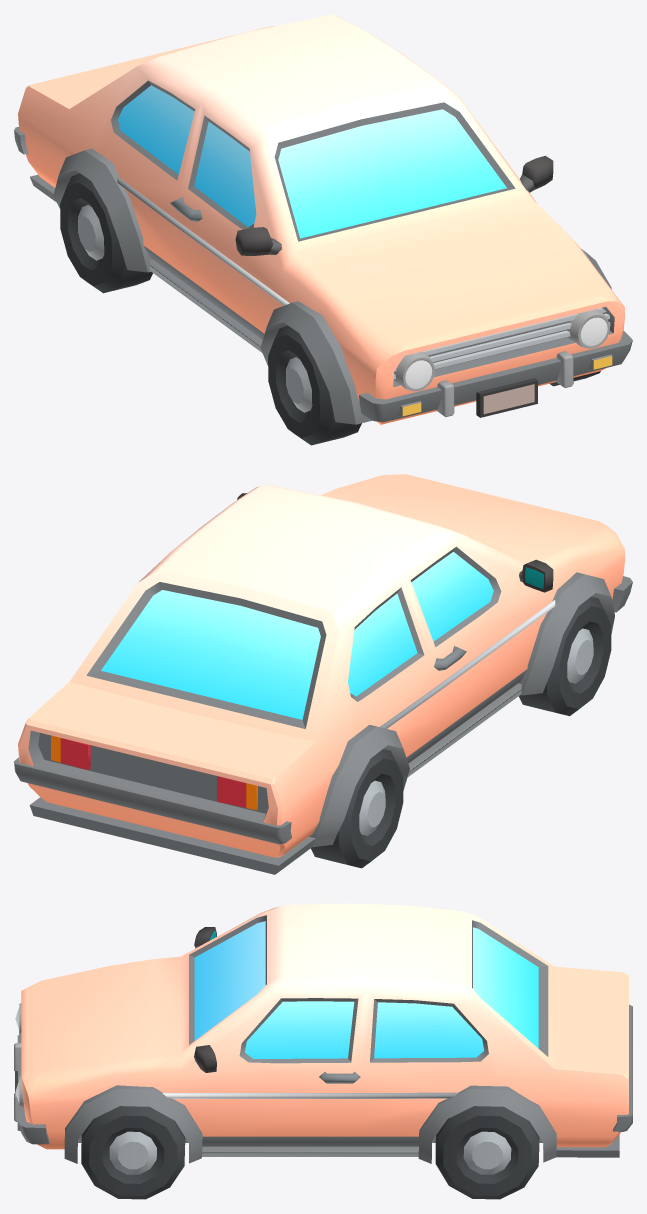
Rendered from Car_06.glb.
3 views of the same model, one above another, from view 1: azimuth 30°, elevation 25°; view 2: azimuth 150°, elevation 25°; view 3: azimuth 270°, elevation 25° (orthographic). The views are drawn at different scales.
Parts seen in each view (by area): view 1: Car_06, Wheel_029, Wheel_030; view 2: Car_06, Wheel_030, Wheel_029; view 3: Car_06, Wheel_031, Wheel_032.
Boxes of the visible parts, bbox=[...] form: Car_06: bbox=[14, 14, 632, 424]; Wheel_029: bbox=[268, 325, 361, 445]; Wheel_030: bbox=[60, 173, 152, 293]; Car_06: bbox=[14, 474, 632, 874]; Wheel_030: bbox=[311, 749, 403, 868]; Wheel_029: bbox=[519, 596, 611, 716]; Car_06: bbox=[14, 903, 632, 1163]; Wheel_031: bbox=[81, 1106, 185, 1199]; Wheel_032: bbox=[435, 1106, 539, 1199].
Size of the model in its own units: 2.05 by 1.51 by 4.13.
2 materials, 2 textured.
